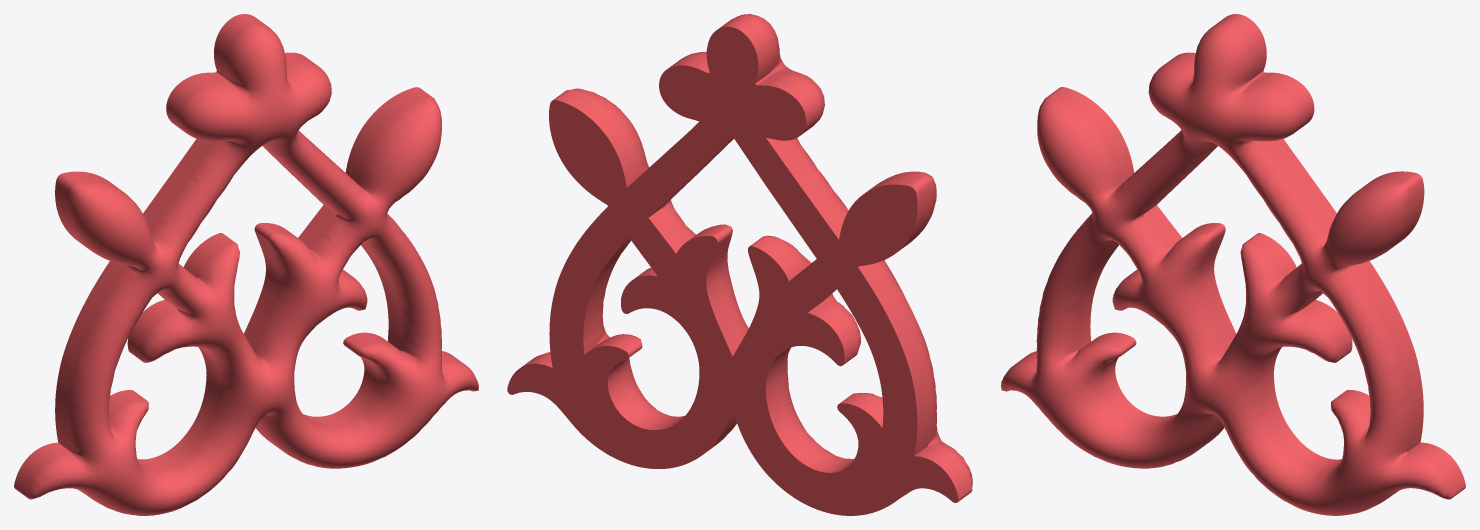
3 renders of one model, left to right at view 1: azimuth 30°, elevation 25°; view 2: azimuth 150°, elevation 25°; view 3: azimuth 330°, elevation 25°, orthographic.
Bounding box in the file's own units: 0.3808 × 0.3728 × 0.0578.
